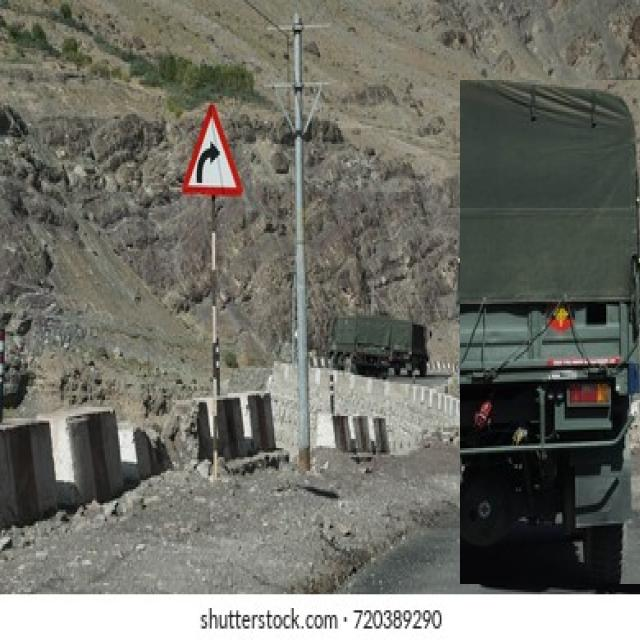truck: (460, 80, 640, 584), (330, 317, 429, 375)
